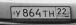license-plateSW: (10, 5, 71, 19)
